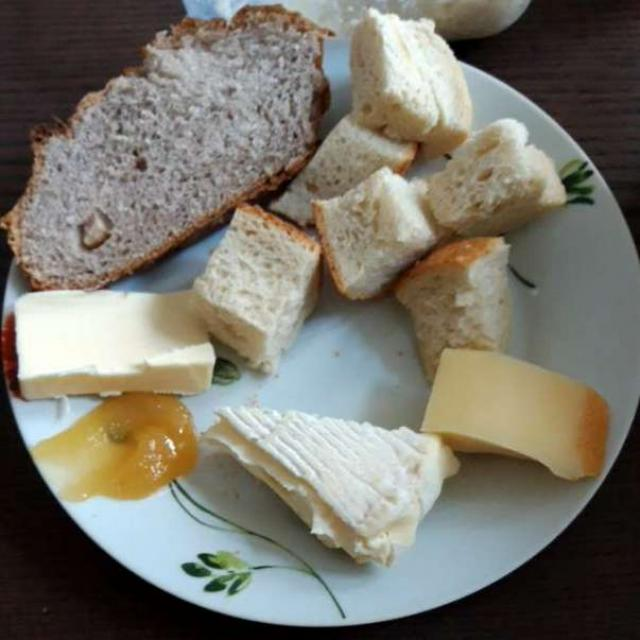bread-nut: (17, 18, 344, 285)
bread-white: (214, 15, 557, 375)
butter: (19, 287, 211, 397)
hard-cheese: (422, 343, 608, 479)
honey: (33, 383, 209, 504)
soft-cheese: (209, 397, 456, 578)
